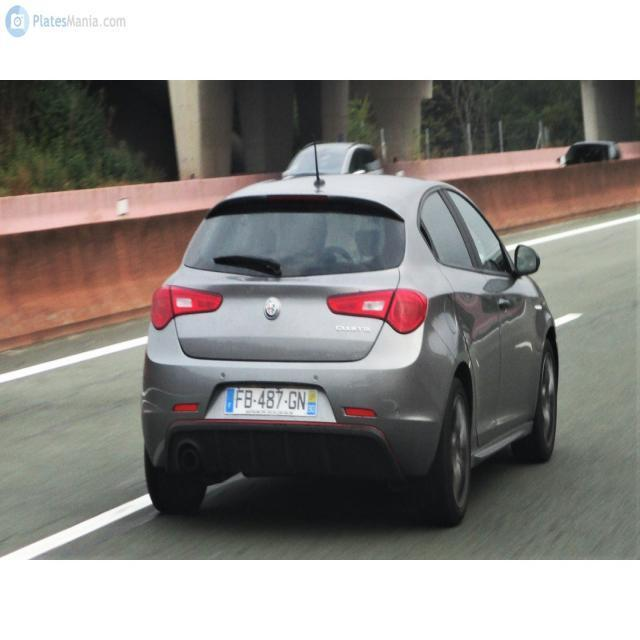EU: (222, 386, 322, 419)
France: (226, 386, 235, 414)
